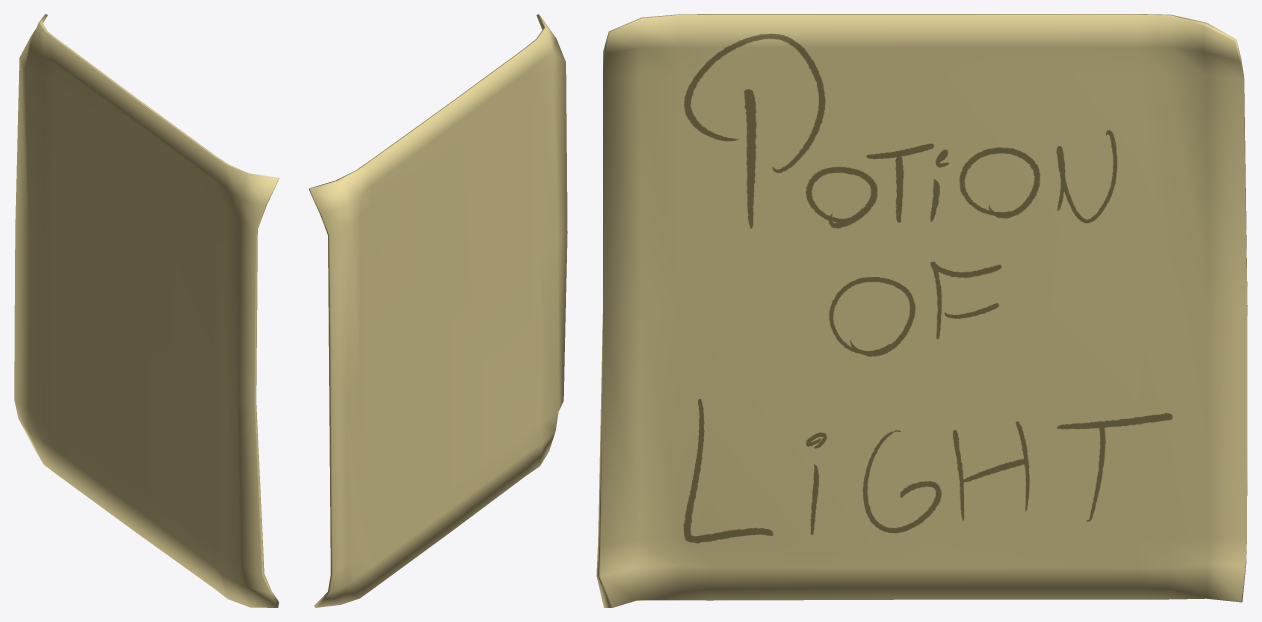
Rendered from papelPotionOfLight.fbx.
3 renders of one model, left to right at view 1: azimuth 30°, elevation 25°; view 2: azimuth 150°, elevation 25°; view 3: azimuth 270°, elevation 25°, orthographic. The views are drawn at different scales.
Parts seen in each view (by area): view 1: Papel; view 2: Papel; view 3: Papel.
Boxes of the visible parts, x1,y1,x2,y2 form: Papel: (14,14,279,607); Papel: (309,14,567,607); Papel: (596,14,1247,607).
Bounding box in the file's own units: 16.28 × 200 × 202.
